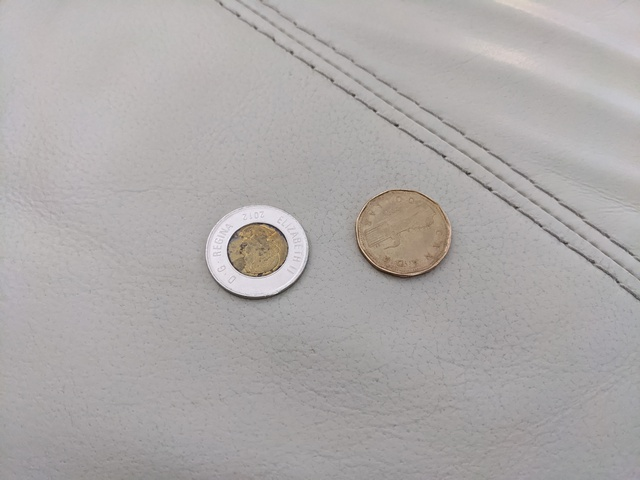loonie: (349, 175, 465, 279)
twonie: (196, 190, 308, 300)
